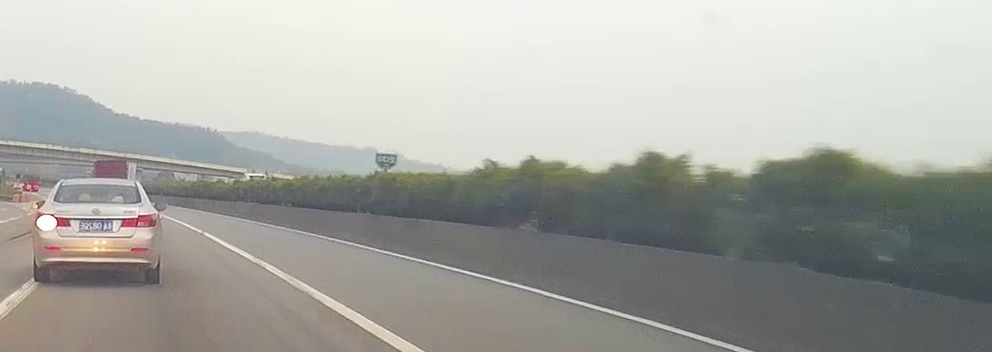L_light: (35, 211, 71, 227)
R_light: (120, 213, 158, 228)
T_light: (88, 201, 108, 203)
day-left: (32, 178, 162, 284)
